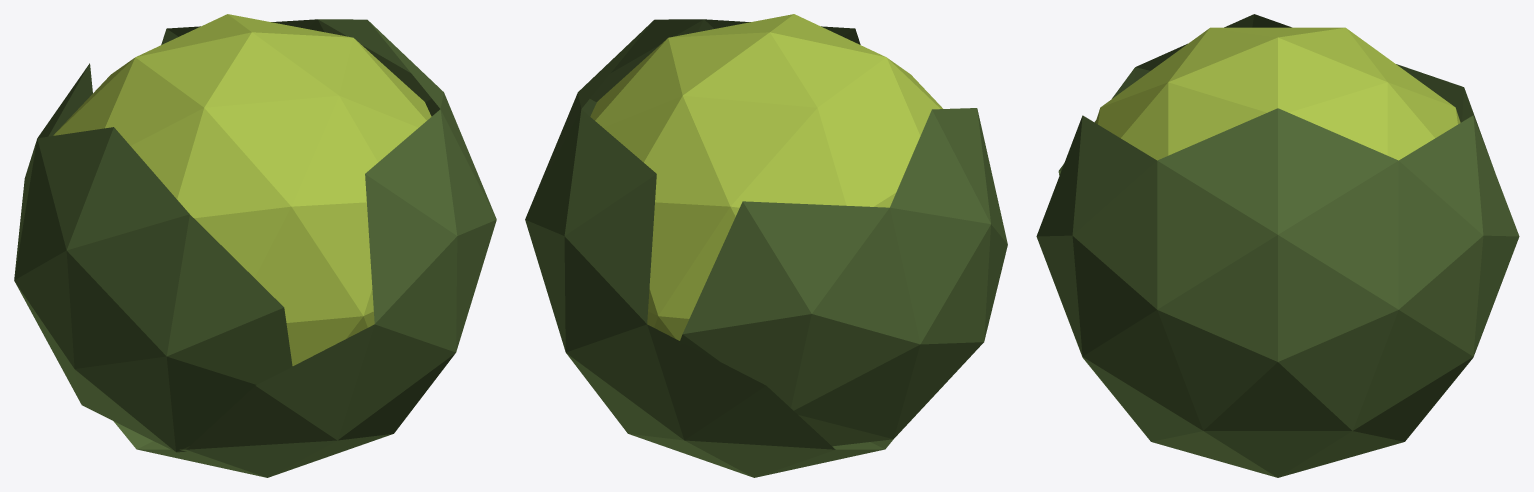
Rendered from cabbage.fbx.
The picture shows the model from 3 angles, left to right: view 1: azimuth 30°, elevation 25°; view 2: azimuth 150°, elevation 25°; view 3: azimuth 270°, elevation 25°; orthographic projection.
Parts seen in each view (by area): view 1: cabbage; view 2: cabbage; view 3: cabbage.
Boxes of the visible parts, x1,y1,x2,y2 form: cabbage: (14,14,496,477); cabbage: (525,14,1007,477); cabbage: (1036,14,1519,477).
Size of the model in its own units: 215 by 204 by 220.
